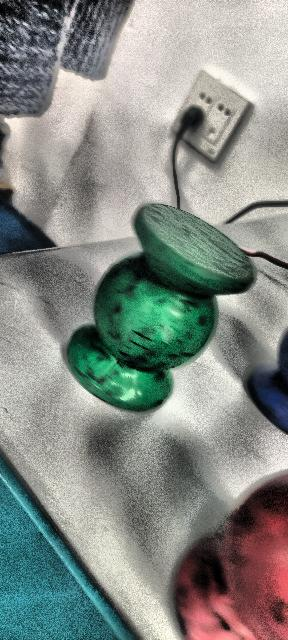blue: (247, 319, 288, 441)
green: (63, 206, 249, 420)
red: (165, 455, 288, 640)
